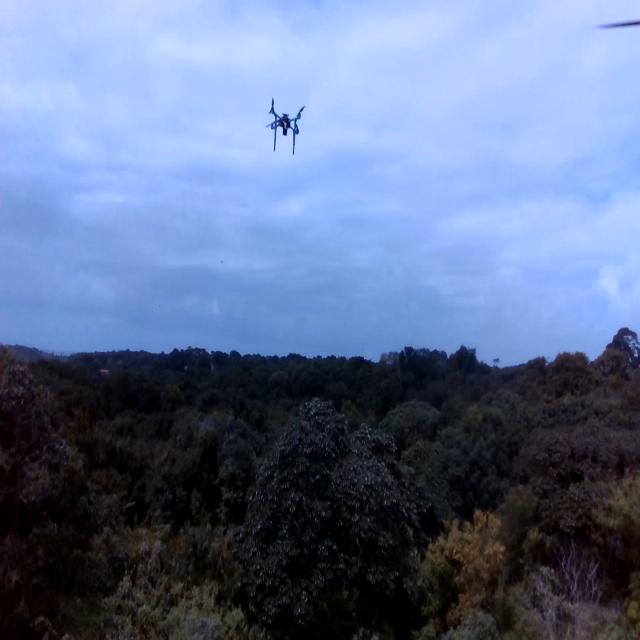-uav-: (257, 89, 318, 167)
